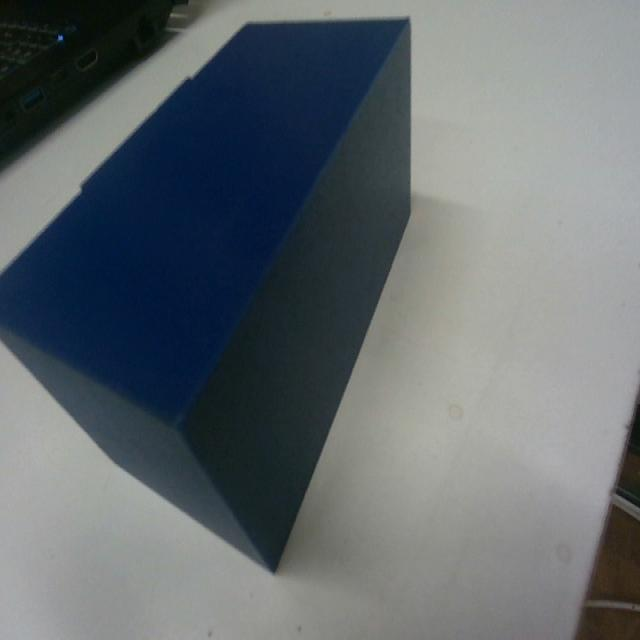Blue Cuboid: (0, 13, 414, 572)
